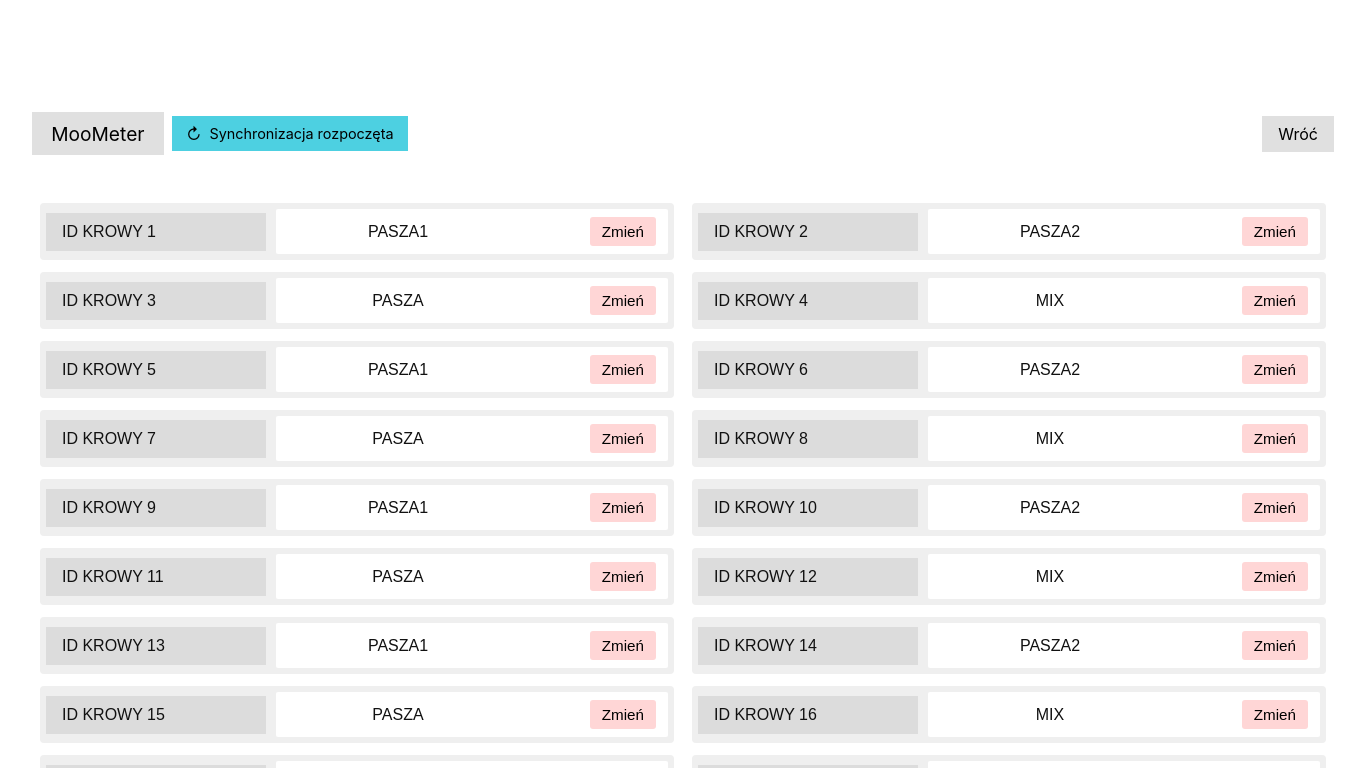
Test: ManageFodder – logika biznesowa › powinien otworzyć szczegóły krowy po kliknięciu "Zmień"
The width and height of the screenshot is (1366, 768).
// Kliknij "Zmień" dla pierwszej krowy
Click the 1st button "Zmień" at (623, 232), box [590,217,656,246]
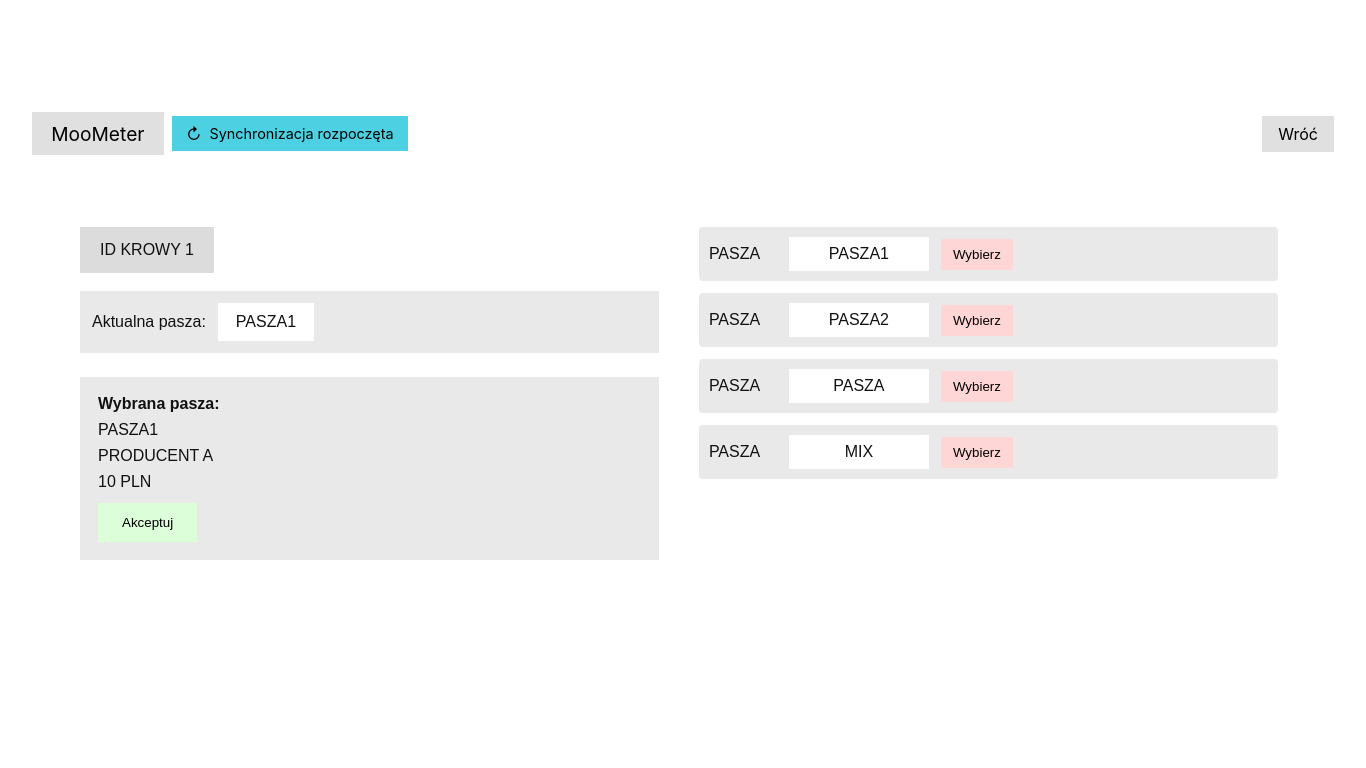
Expected: the text "ID KROWY 1" is shown, [80,227,214,273]
Result: the text "Aktualna pasza:" is shown at [92,313,206,331]
